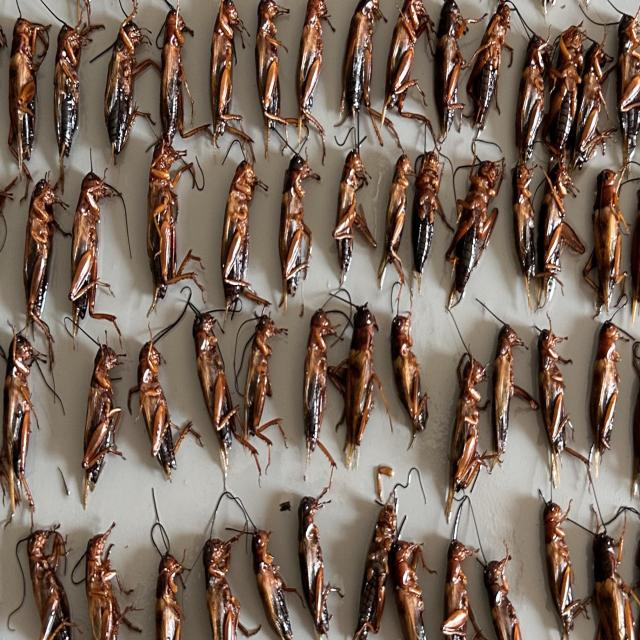no_egg: (446, 161, 502, 307), (69, 171, 119, 330), (137, 342, 192, 477), (147, 139, 193, 299), (445, 353, 485, 528), (193, 313, 235, 470), (537, 160, 581, 306), (81, 345, 120, 505), (0, 335, 34, 514), (84, 530, 138, 640), (583, 169, 623, 315), (221, 160, 259, 310), (8, 18, 47, 163), (332, 149, 373, 286), (355, 503, 396, 640), (210, 0, 248, 147), (203, 539, 258, 640), (383, 0, 430, 117), (344, 307, 378, 468), (467, 2, 510, 128), (104, 18, 142, 156), (256, 0, 288, 154), (27, 528, 71, 640), (592, 534, 638, 640), (543, 501, 578, 640), (538, 329, 569, 485), (544, 27, 582, 154), (54, 25, 85, 179), (589, 321, 620, 474), (434, 0, 467, 143), (251, 529, 293, 640), (379, 151, 413, 287), (390, 314, 428, 435), (303, 310, 333, 463), (24, 179, 56, 322), (341, 0, 379, 120), (279, 155, 311, 296), (159, 7, 191, 143), (299, 497, 329, 635), (573, 43, 606, 166), (245, 314, 275, 444), (516, 36, 547, 161), (442, 540, 480, 640), (389, 540, 427, 640), (412, 151, 441, 275), (617, 16, 640, 170), (493, 326, 519, 462), (297, 0, 326, 119), (484, 552, 523, 640), (513, 161, 536, 278), (155, 551, 184, 640), (631, 190, 640, 318)
